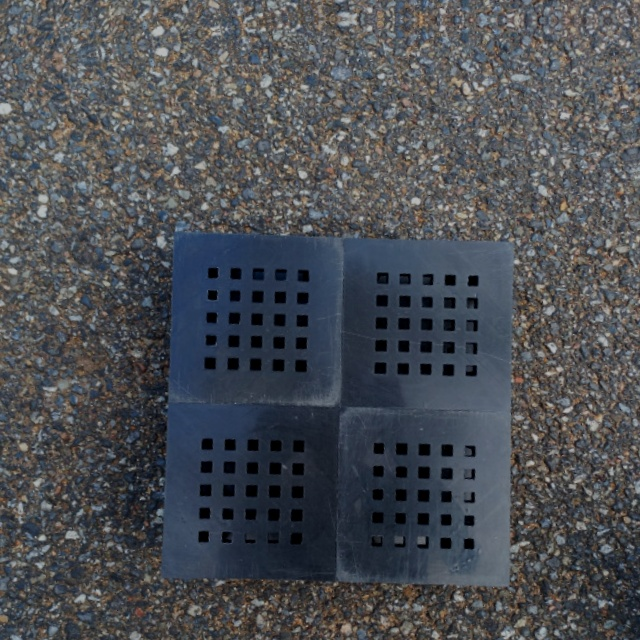pallet: (157, 222, 522, 603)
